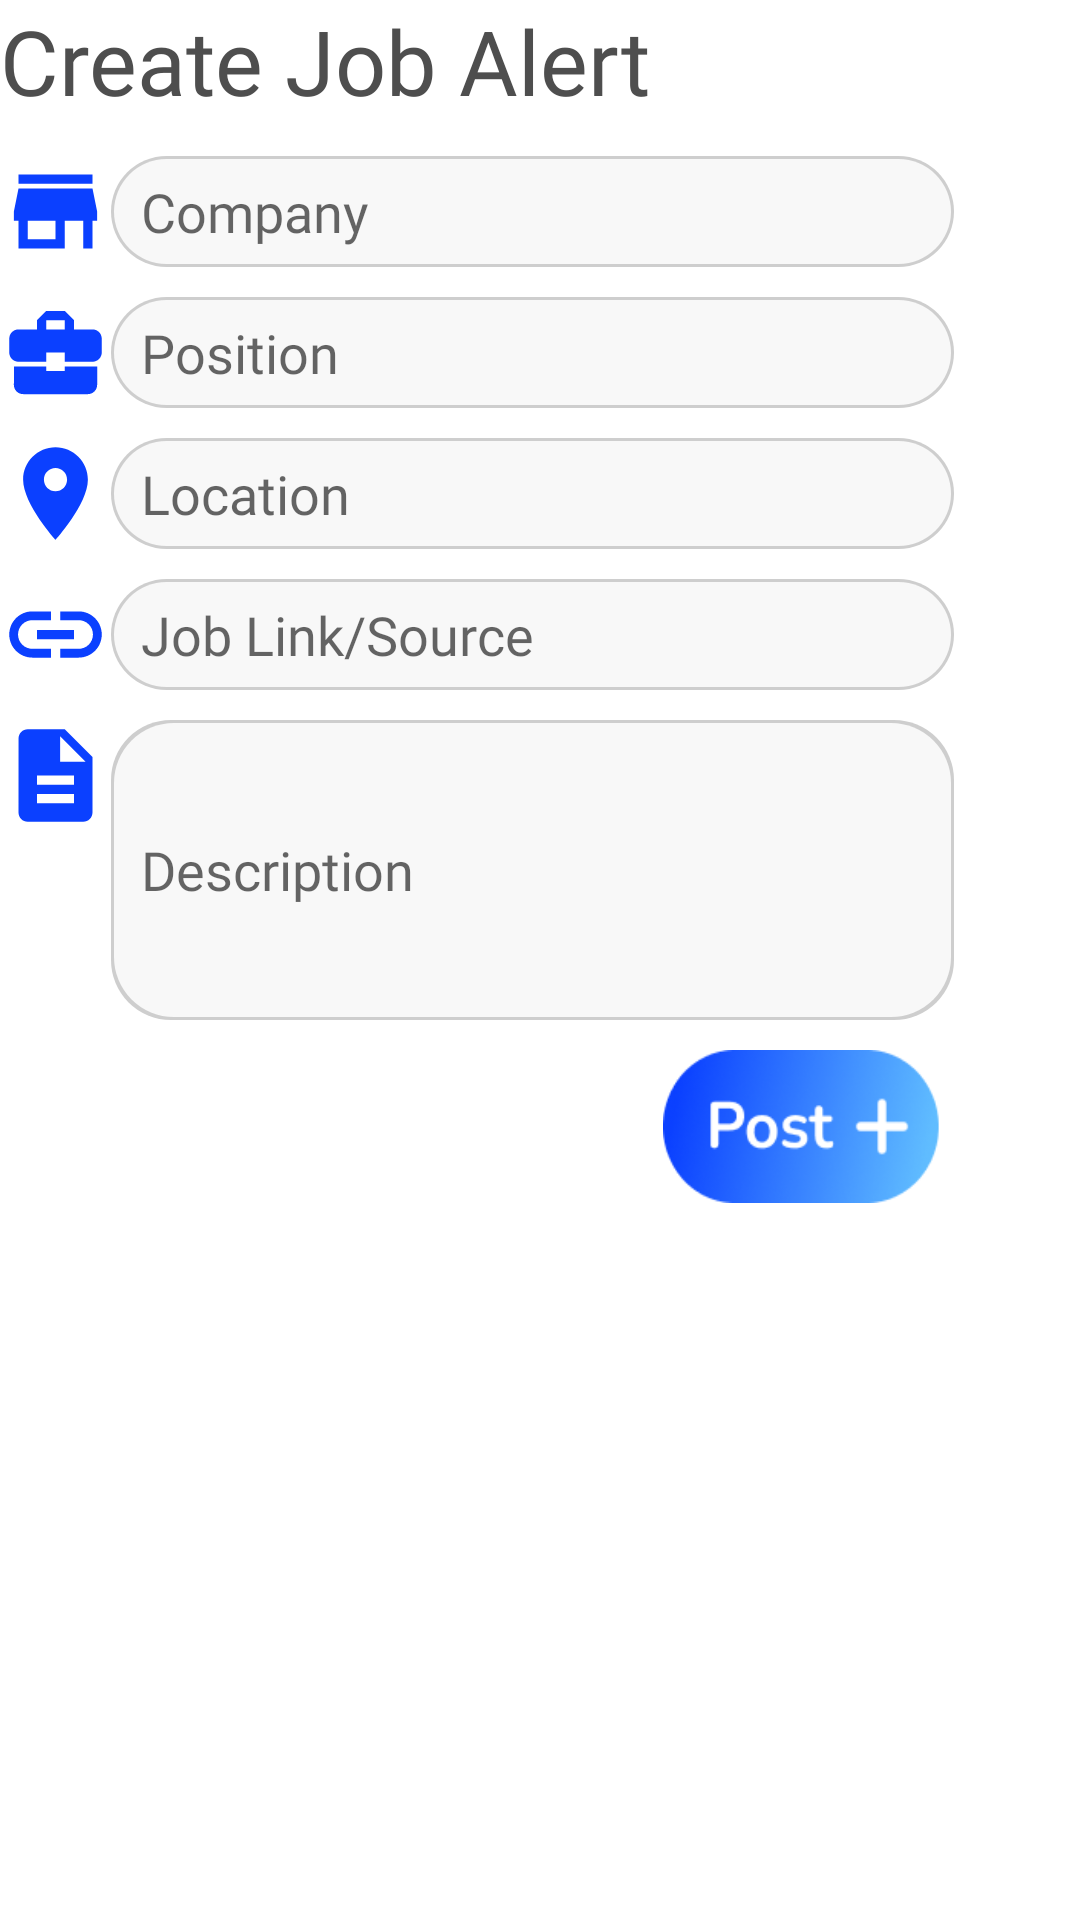

Point at icon controls on the screen. Image size 1080*1920, points as (x=x, y=y).
business center: (x=55, y=353)
store: (x=55, y=211)
